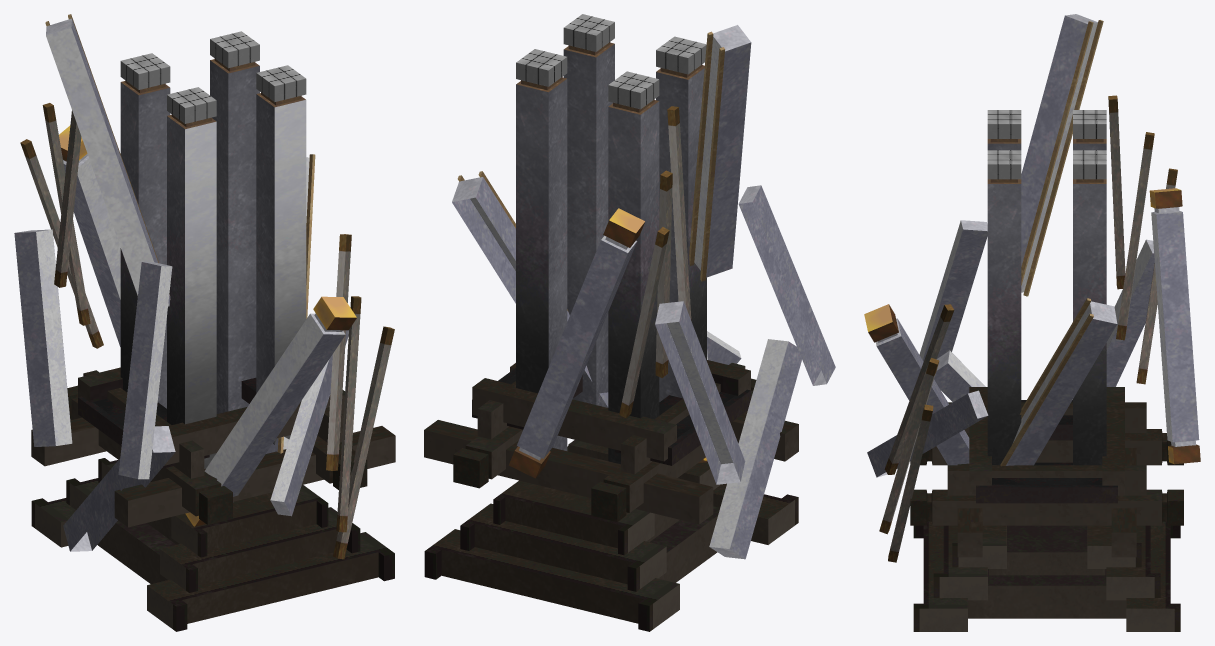
Rendered from trap_212_cjbtow.fbx.
3 renders of one model, left to right at view 1: azimuth 30°, elevation 25°; view 2: azimuth 150°, elevation 25°; view 3: azimuth 270°, elevation 25°, orthographic. The views are drawn at different scales.
Parts seen in each view (by area): view 1: trap_212_cjbtow; view 2: trap_212_cjbtow; view 3: trap_212_cjbtow.
Part boxes in pixels (<box>): trap_212_cjbtow: <box>14,14,395,631</box>; trap_212_cjbtow: <box>424,14,835,631</box>; trap_212_cjbtow: <box>864,14,1200,631</box>.
Size of the model in its own units: 0.6792 by 1.25 by 0.7498.
Materials: 1 (1 with a texture image).
